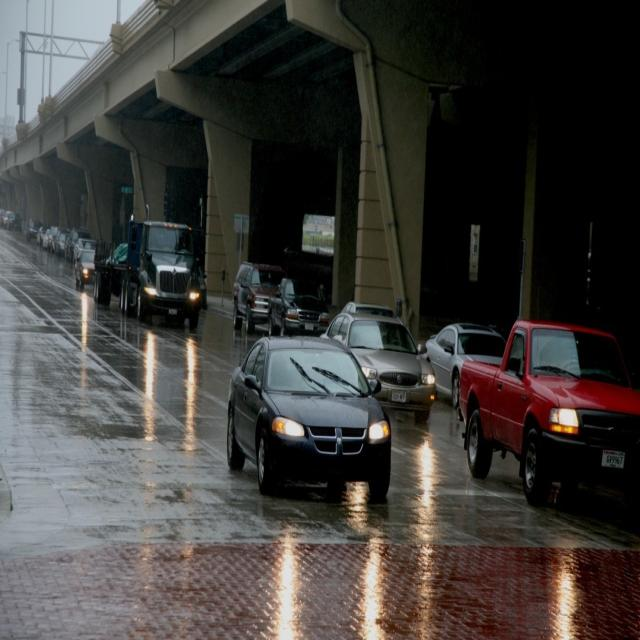bus: (97, 209, 205, 328)
car: (459, 311, 631, 516), (224, 332, 394, 500), (321, 311, 432, 428), (424, 322, 504, 410), (231, 262, 293, 332), (272, 270, 336, 333), (75, 243, 97, 290)
